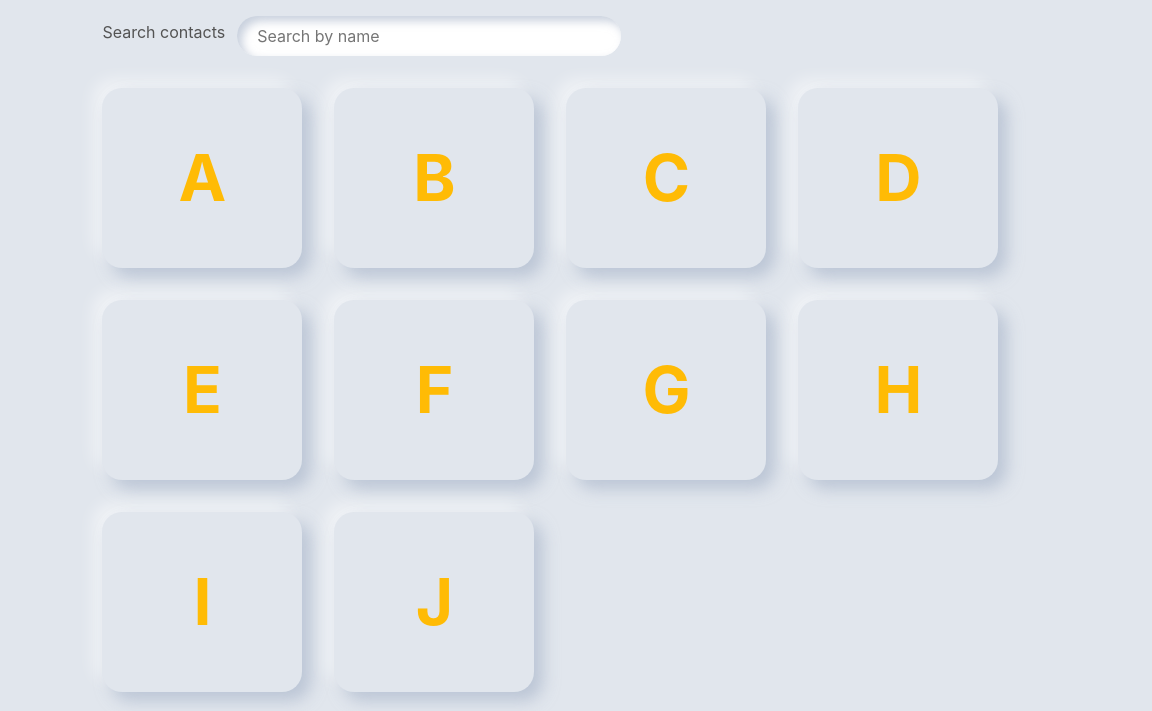
remove confirmation › clicking a card after a confirmed removal applies the new contact details
Click the button "E": (202, 390) [102,300,302,480]
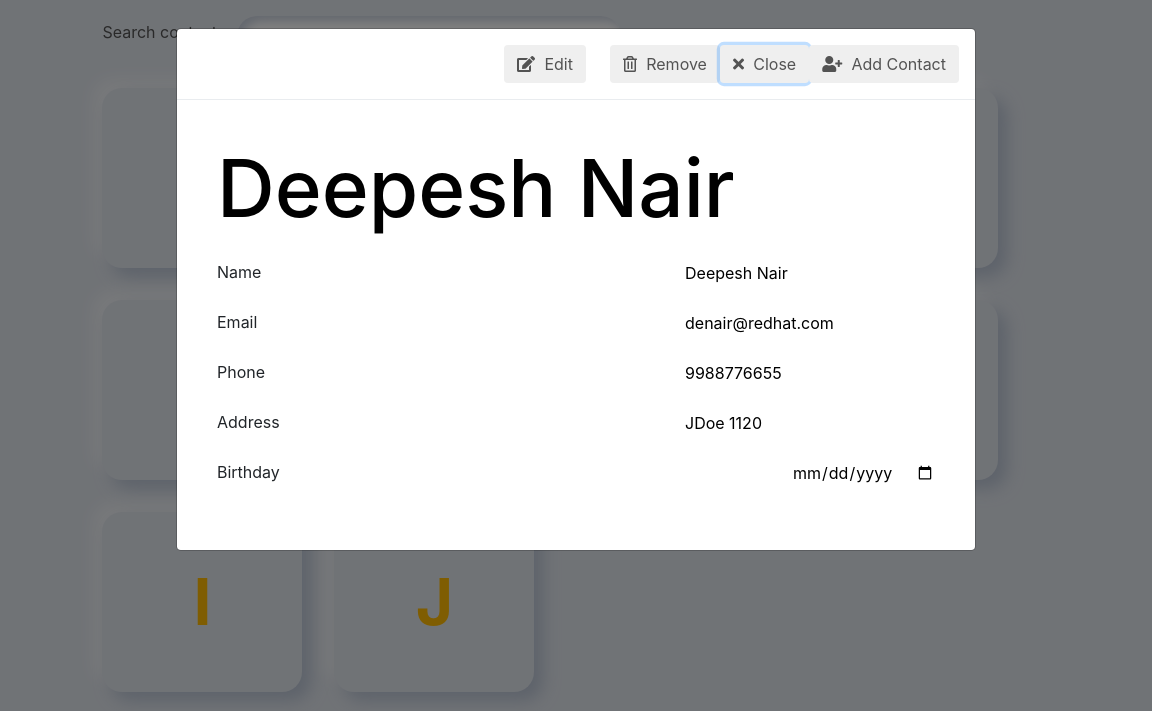
Click the button "Remove": (665, 64) [610,45,720,83]
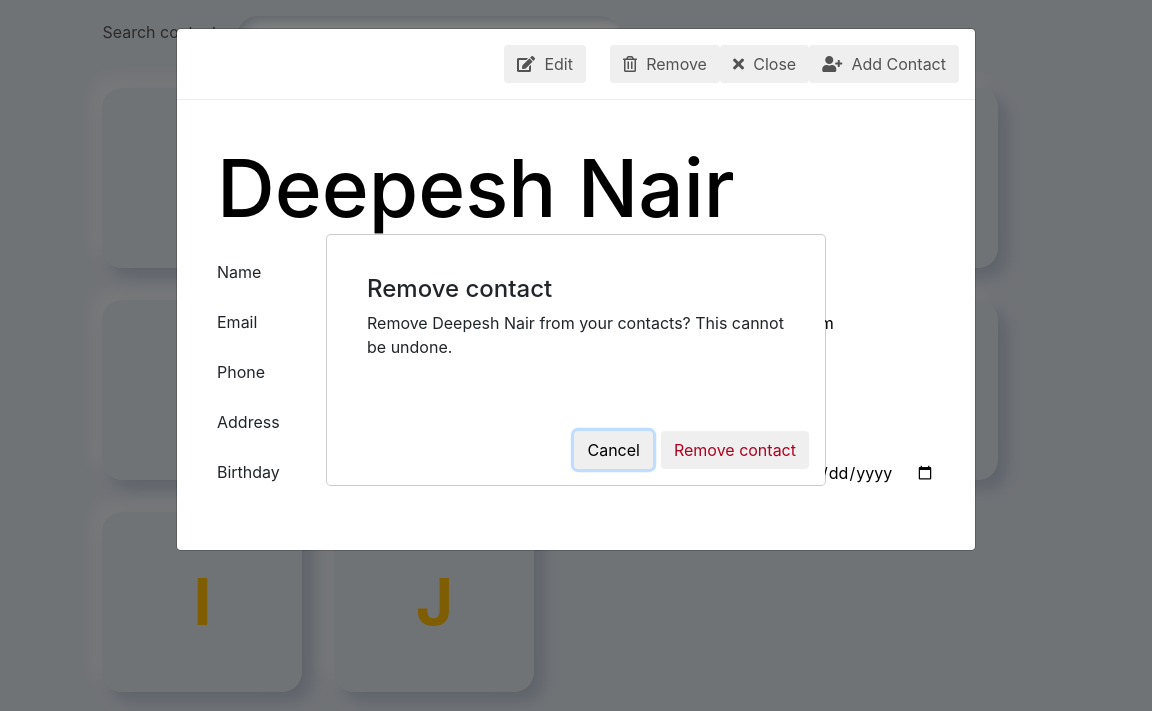
Click the button "Remove contact": (735, 450) [661,431,809,469]
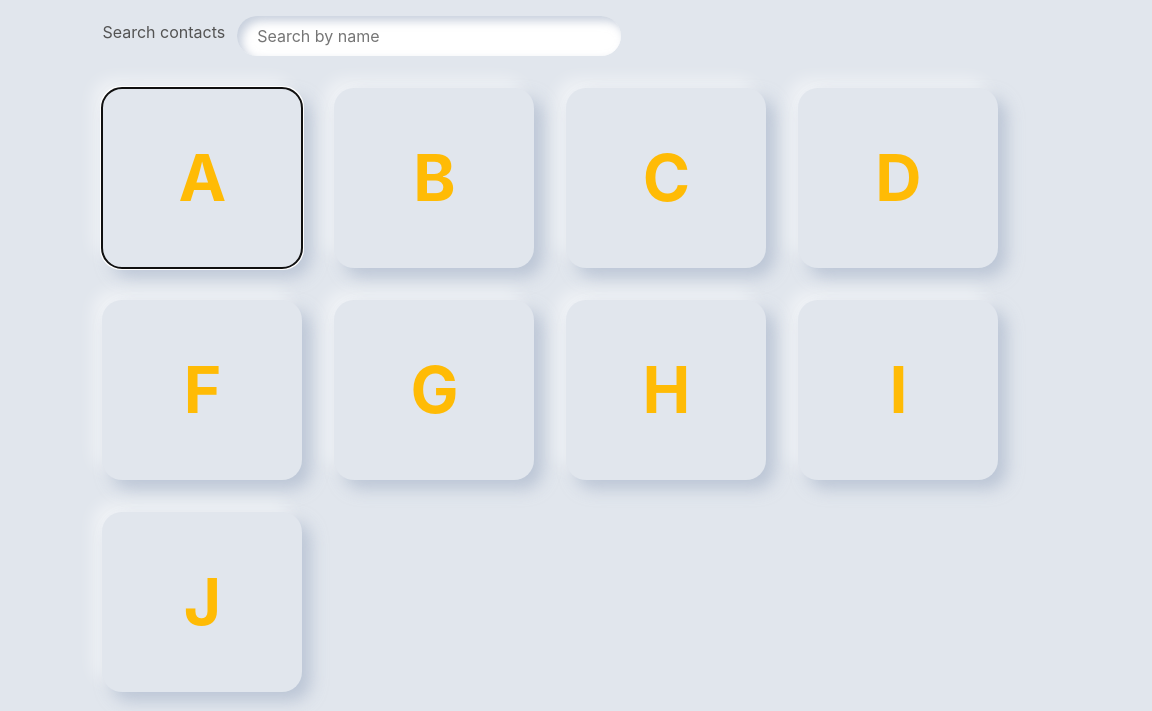
Click the button "D": (898, 178) [798,88,998,268]
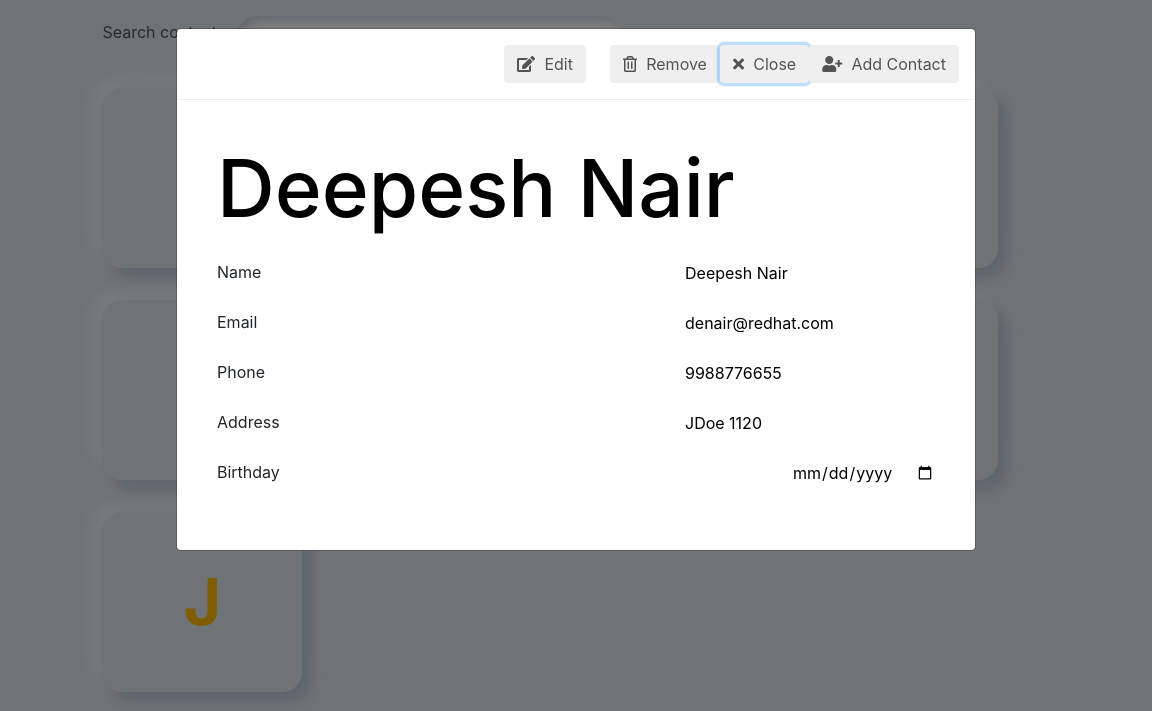
Check: the field labelled "Email" holds "denair@redhat.com", box [683,310,935,336]
Check: the field labelled "Phone" holds "9988776655", box [683,360,935,386]
